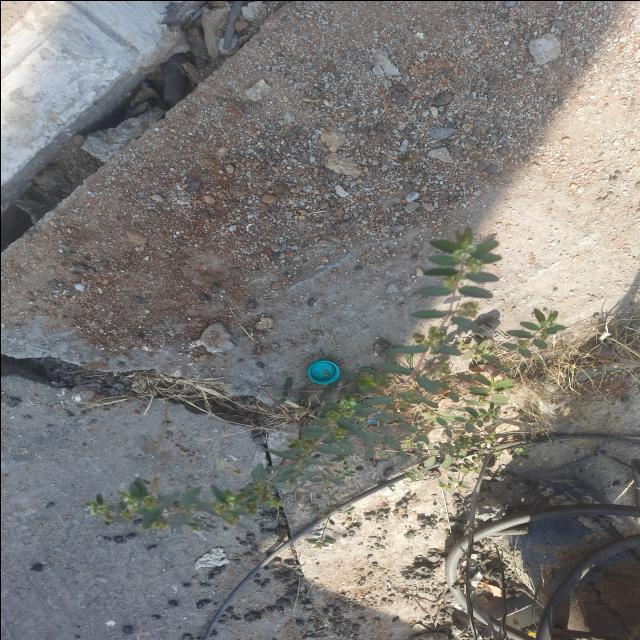Background: (0, 0, 640, 640)
Plastic: (307, 359, 340, 384)
